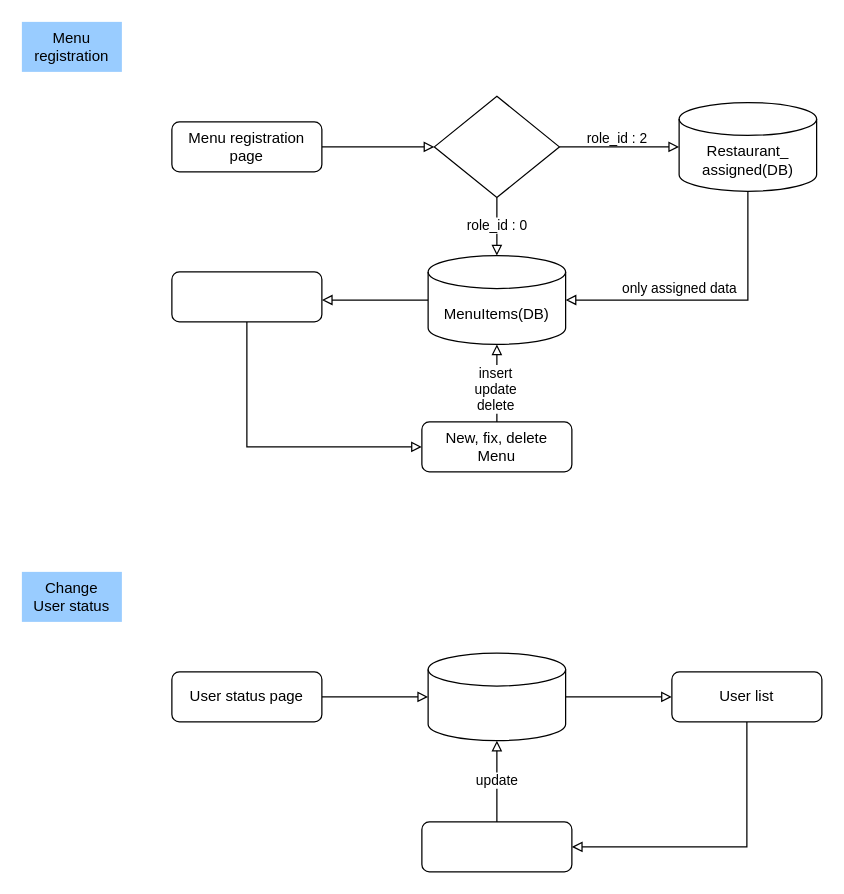
This 844x894 diagram has some shape labels left out. The centre of each missing label's shape, as x and y in pixels:
change user status (0, 1, 2, 9): pixel 496 846
check user: pixel 496 146
Menu list: pixel 246 296
USER(DB): pixel 496 696
